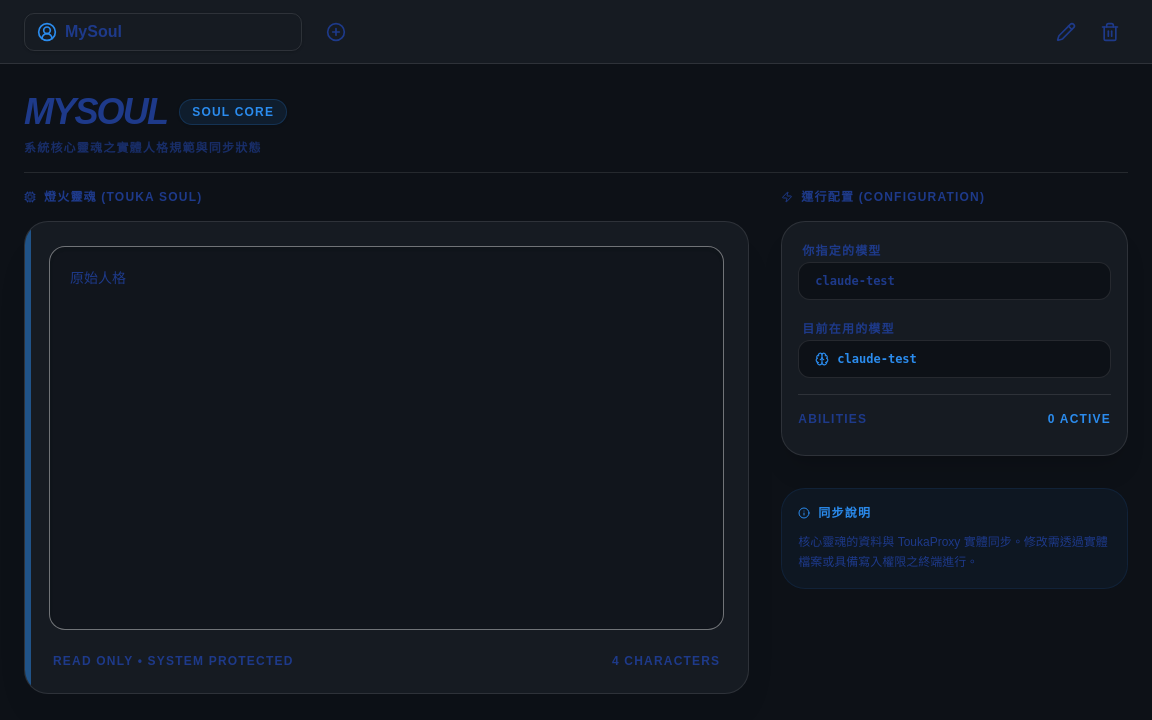
Test: SoulStudio — edit/delete with admin step-up › 刪除確認框提醒還有備份，以及刪除前不會自動存快照
expect the heading "MySoul" is shown: met, box x1=24 y1=92 x2=167 y2=132
Click the button titled "刪除靈魂" at {"x": 1110, "y": 32}, box x1=1092 y1=14 x2=1128 y2=50
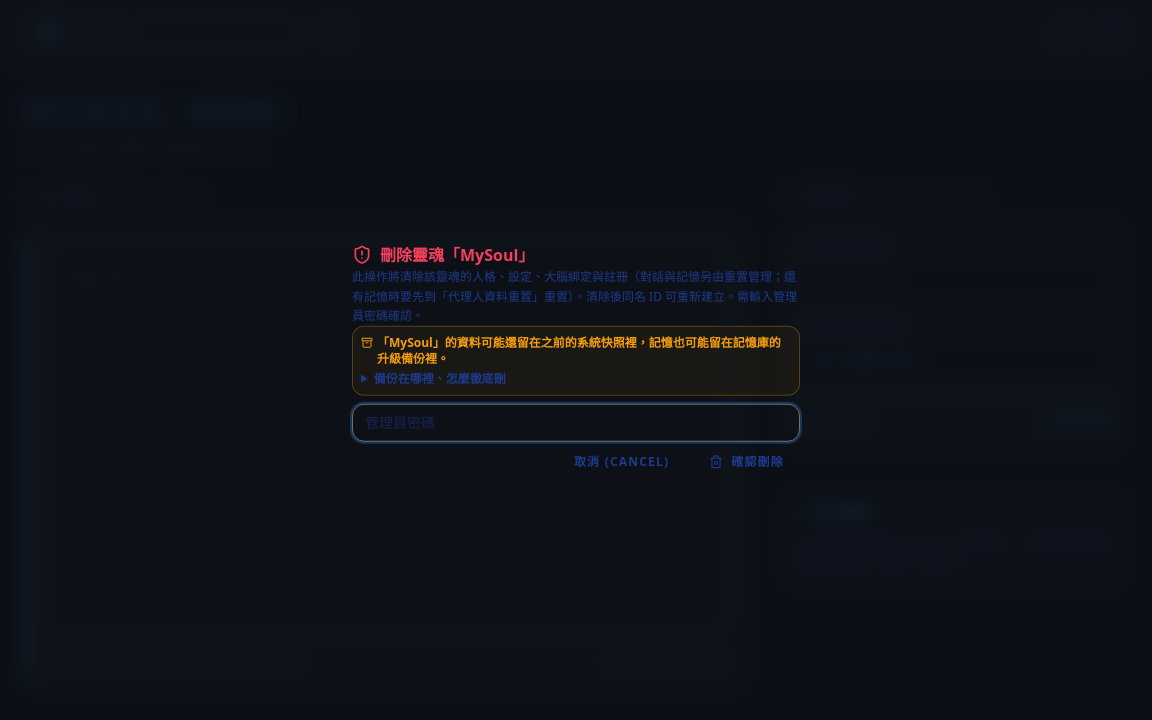
expect the text "「MySoul」的資料可能還留在之前的系統快照裡，記憶也可能留在記憶庫的升級備份裡。" is shown: met, box x1=377 y1=334 x2=791 y2=366
